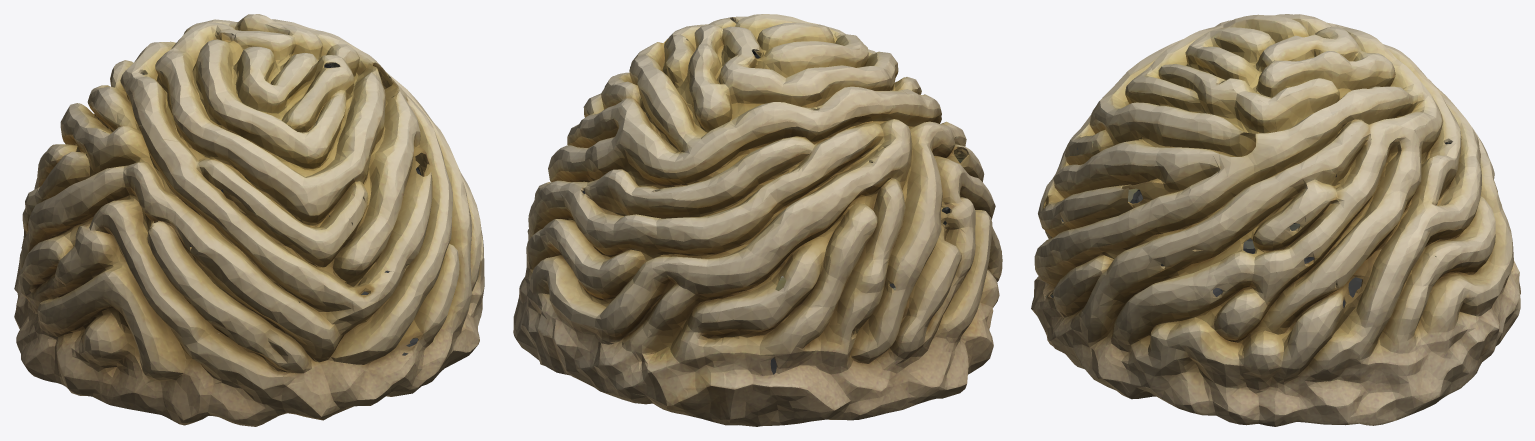
3 views of the same model, side by side, from view 1: azimuth 30°, elevation 25°; view 2: azimuth 150°, elevation 25°; view 3: azimuth 270°, elevation 25° (orthographic).
Parts seen in each view (by area): view 1: world; view 2: world; view 3: world.
Part boxes in pixels (<box>): world: <box>14,14,484,426</box>; world: <box>513,14,1002,426</box>; world: <box>1031,14,1520,426</box>.
Size of the model in its own units: 0.1793 by 0.1217 by 0.18.
1 material, 1 textured.
